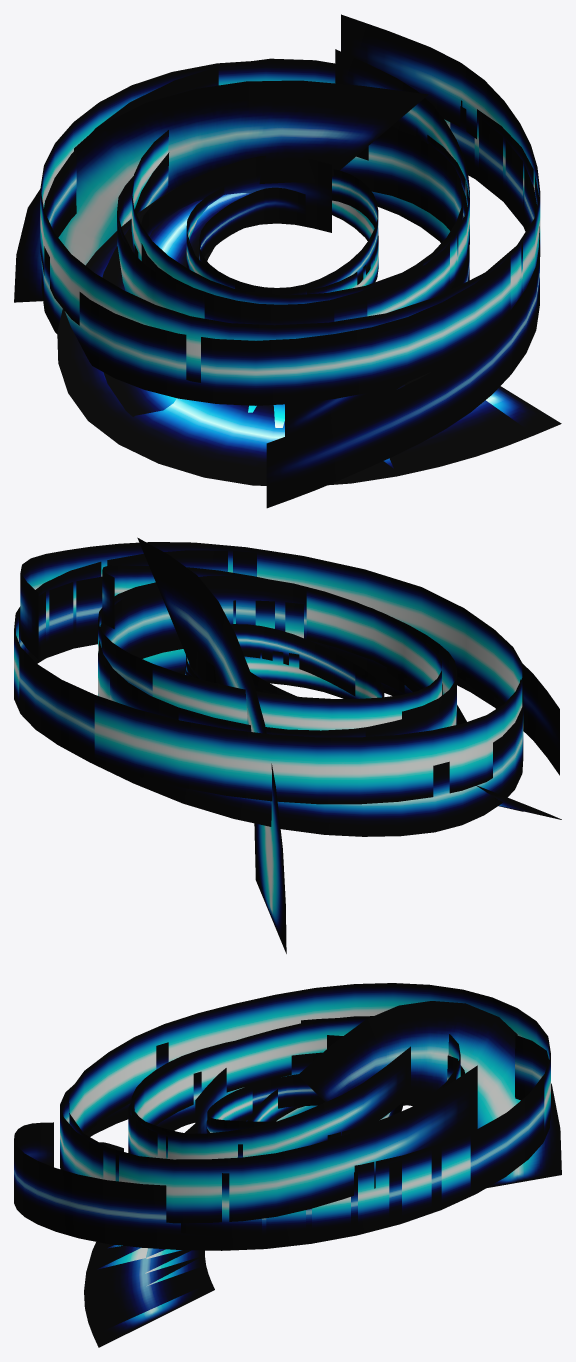
Rendered from effect_zhaoyun_1.FBX.
3 views of the same model, one above another, from view 1: azimuth 30°, elevation 25°; view 2: azimuth 150°, elevation 25°; view 3: azimuth 270°, elevation 25° (orthographic). The views are drawn at different scales.
Visible parts, largest first — view 1: effect_zhaoyun_4, effect_zhaoyun_5, effect_zhaoyun_3, effect_zhaoyun_2, effect_zhaoyun_1; view 2: effect_zhaoyun_4, effect_zhaoyun_5, effect_zhaoyun_3; view 3: effect_zhaoyun_4, effect_zhaoyun_3, effect_zhaoyun_2, effect_zhaoyun_5, effect_zhaoyun_1.
Boxes of the visible parts, x1,y1,x2,y2 form: effect_zhaoyun_4: (40, 14, 540, 508); effect_zhaoyun_5: (117, 127, 463, 325); effect_zhaoyun_3: (14, 80, 428, 302); effect_zhaoyun_2: (57, 187, 534, 485); effect_zhaoyun_1: (102, 193, 561, 468); effect_zhaoyun_4: (14, 542, 559, 836); effect_zhaoyun_5: (98, 576, 456, 737); effect_zhaoyun_3: (137, 537, 286, 953); effect_zhaoyun_4: (14, 983, 550, 1250); effect_zhaoyun_3: (298, 1001, 561, 1188); effect_zhaoyun_2: (84, 1124, 211, 1335); effect_zhaoyun_5: (131, 1035, 464, 1133); effect_zhaoyun_1: (93, 1101, 404, 1347).
Bounding box in the file's own units: 461 × 267 × 482.
Materials: 1 (1 with a texture image).
